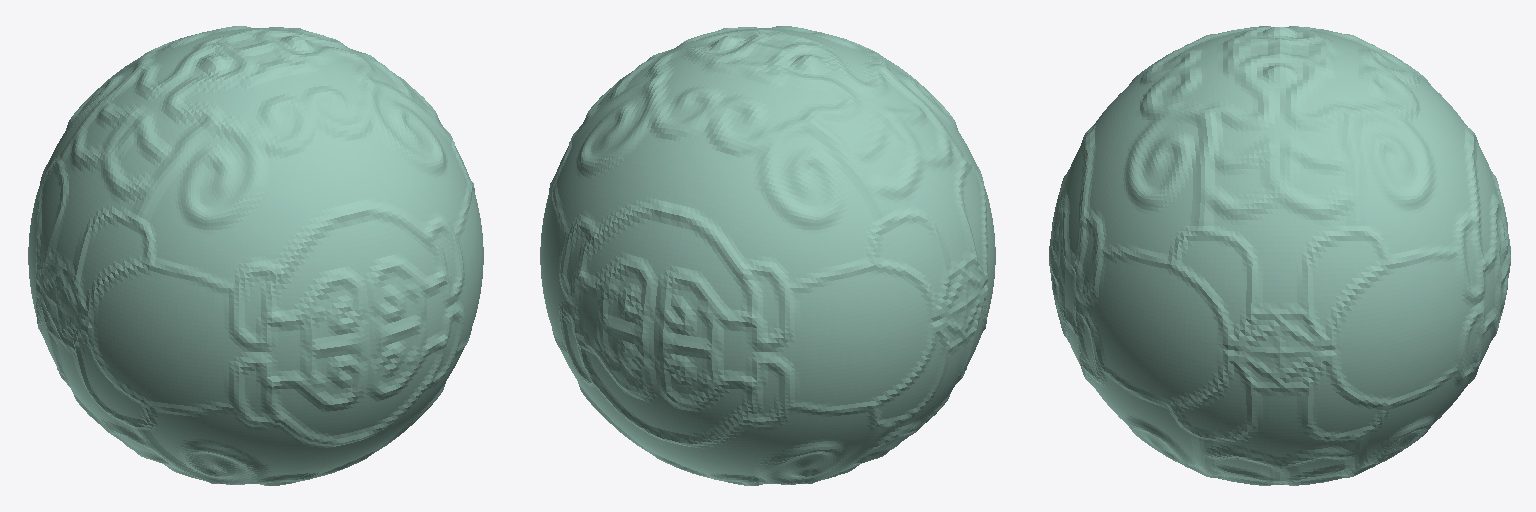
File: Ball.obj
3 renders of one model, left to right at view 1: azimuth 30°, elevation 25°; view 2: azimuth 150°, elevation 25°; view 3: azimuth 270°, elevation 25°, orthographic.
Parts seen in each view (by area): view 1: Quad_Sphere; view 2: Quad_Sphere; view 3: Quad_Sphere.
Part boxes in pixels (x1,y1,x2,y2): Quad_Sphere: (28, 26, 483, 485); Quad_Sphere: (540, 26, 995, 485); Quad_Sphere: (1049, 26, 1510, 485).
Bounding box in the file's own units: 2.59 × 2.61 × 2.6.